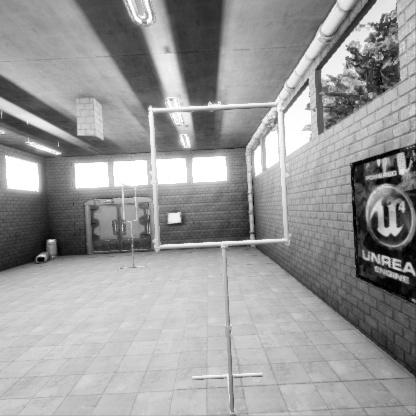gate: (151, 171, 302, 322), (121, 194, 137, 234)
